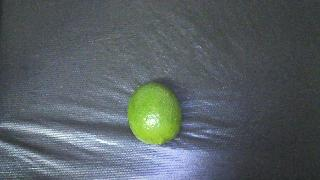LOCAL: (128, 82, 182, 145)
